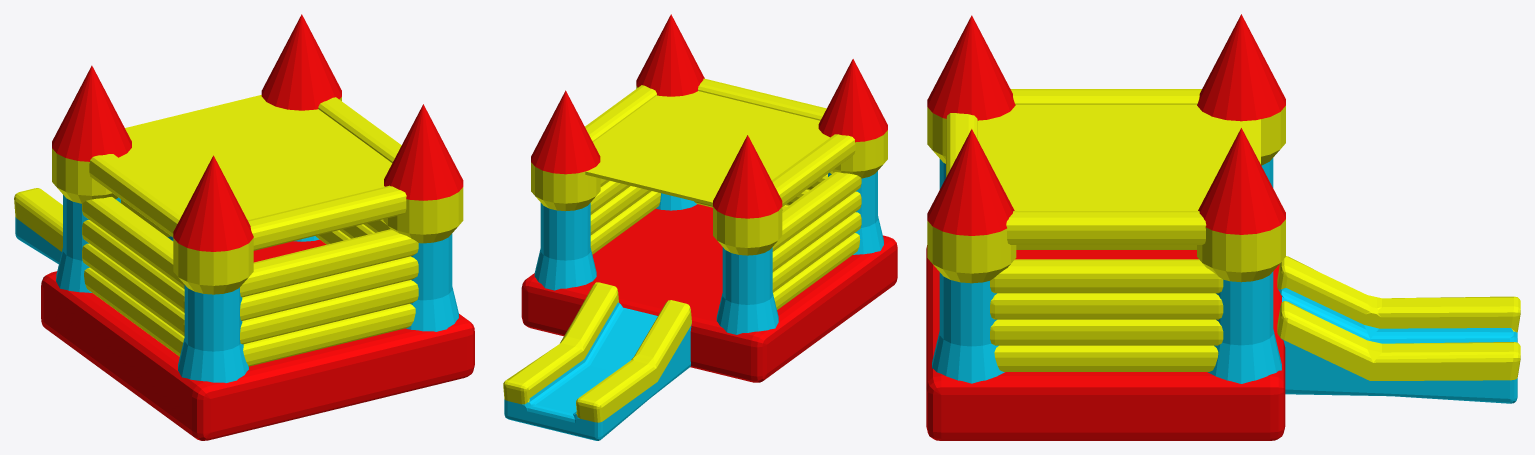
Rendered from Bouncy castle.gltf.
3 renders of one model, left to right at view 1: azimuth 30°, elevation 25°; view 2: azimuth 150°, elevation 25°; view 3: azimuth 270°, elevation 25°, orthographic. The views are drawn at different scales.
Parts seen in each view (by area): view 1: node-0; view 2: node-0; view 3: node-0.
Boxes of the visible parts, <box> form: node-0: <box>14,14,474,440</box>; node-0: <box>503,14,897,440</box>; node-0: <box>926,14,1520,440</box>.
Size of the model in its own units: 686545 by 646061 by 1136432.
